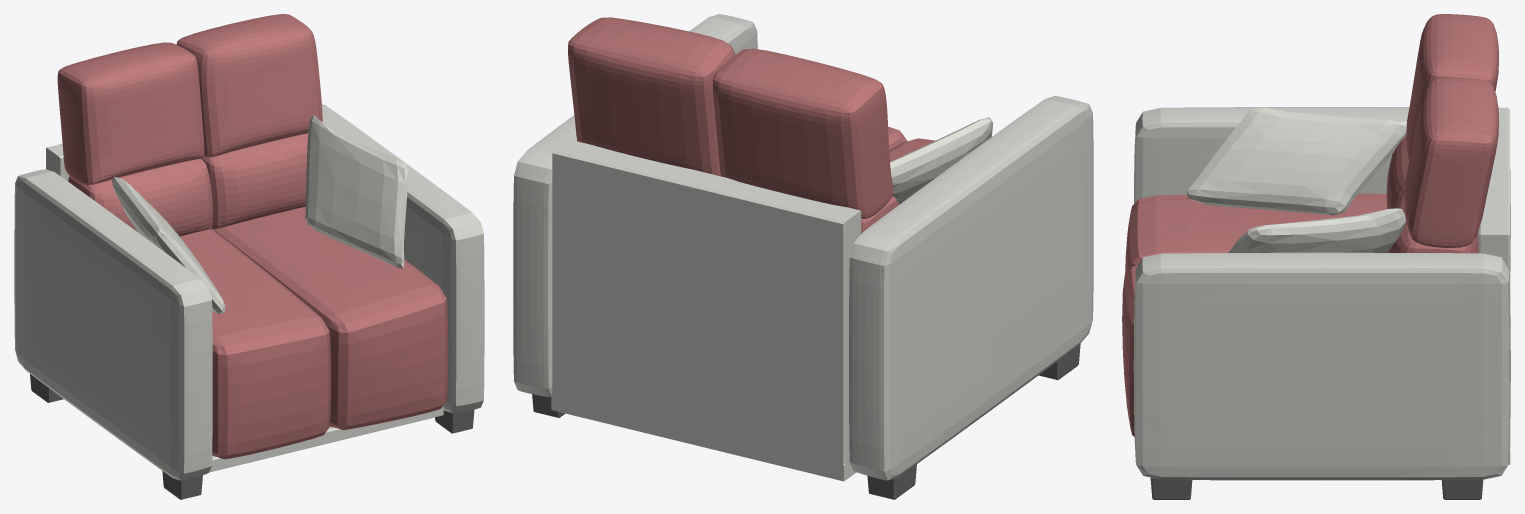
The model's file is sh-scopia-simple-sofa.glb.
3 renders of one model, left to right at view 1: azimuth 30°, elevation 25°; view 2: azimuth 150°, elevation 25°; view 3: azimuth 270°, elevation 25°, orthographic. The views are drawn at different scales.
Parts seen in each view (by area): view 1: coj_grandes_Cube.003, base_sofa_Cube.002, cojin1_Cube.004, pata_Cube.006; view 2: base_sofa_Cube.002, coj_grandes_Cube.003, cojin1_Cube.004, pata_Cube.006; view 3: base_sofa_Cube.002, coj_grandes_Cube.003, cojin1_Cube.004, pata_Cube.006.
Part boxes in pixels (<box>): coj_grandes_Cube.003: <box>57,14,448,459</box>; base_sofa_Cube.002: <box>14,104,484,480</box>; cojin1_Cube.004: <box>112,115,408,313</box>; pata_Cube.006: <box>30,374,474,499</box>; base_sofa_Cube.002: <box>513,14,1093,481</box>; coj_grandes_Cube.003: <box>568,17,934,233</box>; cojin1_Cube.004: <box>890,117,993,204</box>; pata_Cube.006: <box>532,343,1080,499</box>; base_sofa_Cube.002: <box>1133,107,1510,480</box>; coj_grandes_Cube.003: <box>1122,14,1499,436</box>; cojin1_Cube.004: <box>1187,107,1406,252</box>; pata_Cube.006: <box>1150,477,1483,499</box>.
Size of the model in its own units: 1 by 1 by 1.
